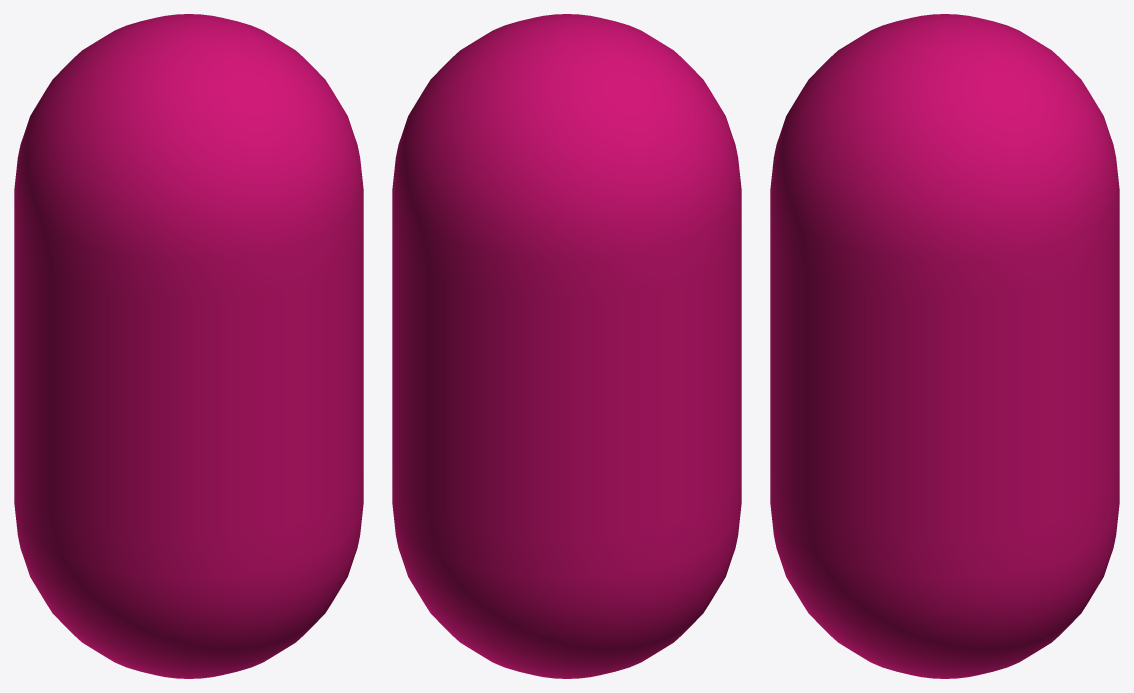
File: Tutorial3.fbx
3 renders of one model, left to right at view 1: azimuth 30°, elevation 25°; view 2: azimuth 150°, elevation 25°; view 3: azimuth 270°, elevation 25°, orthographic.
Parts seen in each view (by area): view 1: Capsule; view 2: Capsule; view 3: Capsule.
Boxes of the visible parts, x1=… form: Capsule: x1=14, y1=14, x2=363, y2=678; Capsule: x1=392, y1=14, x2=741, y2=678; Capsule: x1=770, y1=14, x2=1119, y2=678.
Size of the model in its own units: 100 by 200 by 100.
